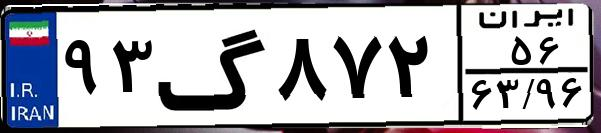2: (385, 28, 445, 110)
3: (110, 28, 156, 98), (495, 70, 520, 125)
5: (508, 27, 537, 80)
6: (560, 70, 590, 125), (537, 27, 568, 80), (470, 70, 495, 125)
7: (330, 28, 385, 110)
8: (270, 28, 330, 110)
9: (57, 26, 110, 100), (535, 70, 560, 125)
گ: (156, 12, 270, 120)
